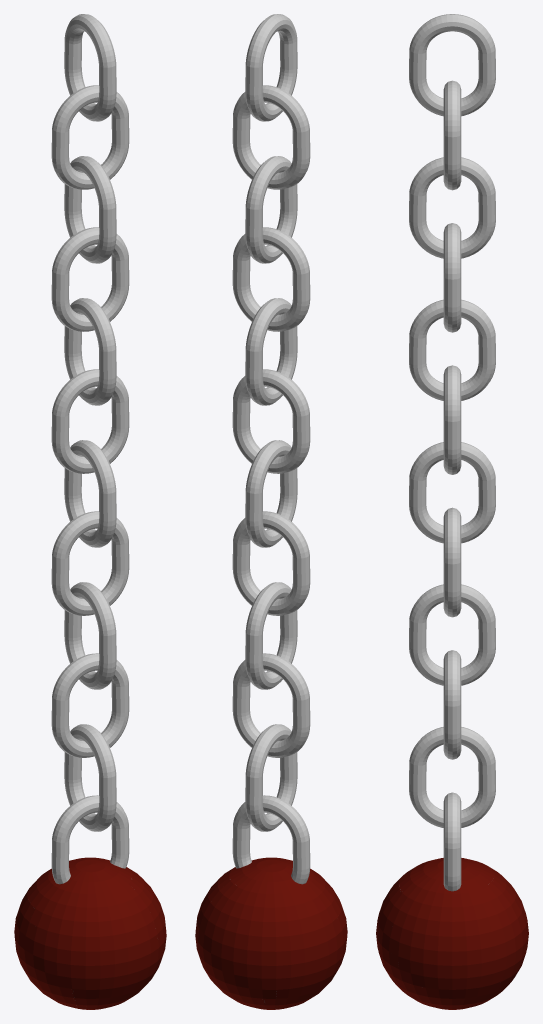
Rendered from zıncır.fbx.
3 renders of one model, left to right at view 1: azimuth 30°, elevation 25°; view 2: azimuth 150°, elevation 25°; view 3: azimuth 270°, elevation 25°, orthographic.
Visible parts, largest first — view 1: Torus, Torus.001, Sphere; view 2: Torus, Torus.001, Sphere; view 3: Torus.001, Sphere, Torus.
Boxes of the visible parts, x1,y1,x2,y2 form: Torus: [51, 85, 129, 884]; Torus.001: [64, 14, 116, 831]; Sphere: [14, 857, 166, 1009]; Torus: [232, 85, 310, 884]; Torus.001: [245, 14, 297, 831]; Sphere: [195, 857, 347, 1009]; Torus.001: [409, 14, 495, 827]; Sphere: [376, 858, 528, 1009]; Torus: [443, 80, 461, 891].
Size of the model in its own units: 41.34 by 295 by 41.34.
